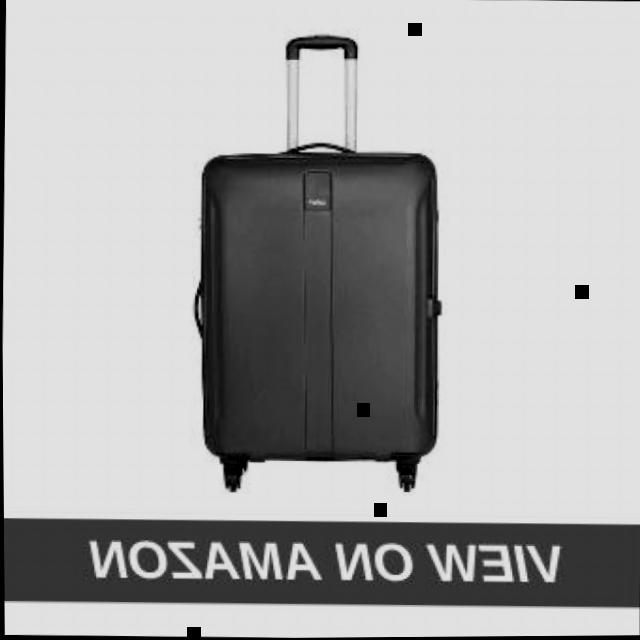luggage: (182, 126, 452, 508)
